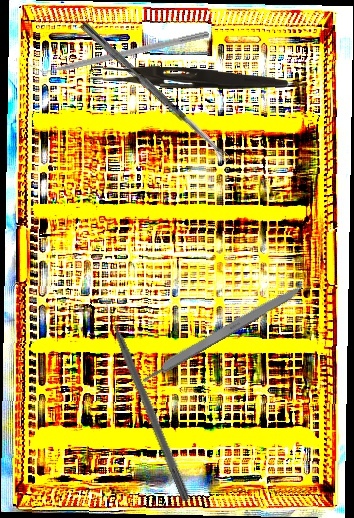Chopper: (28, 21, 210, 79)
Dressing Forceps: (89, 65, 289, 91)
Pusher: (98, 292, 194, 504)
Scalpel Handle: (139, 280, 305, 385)
Surgical Spoon: (78, 21, 232, 164)
